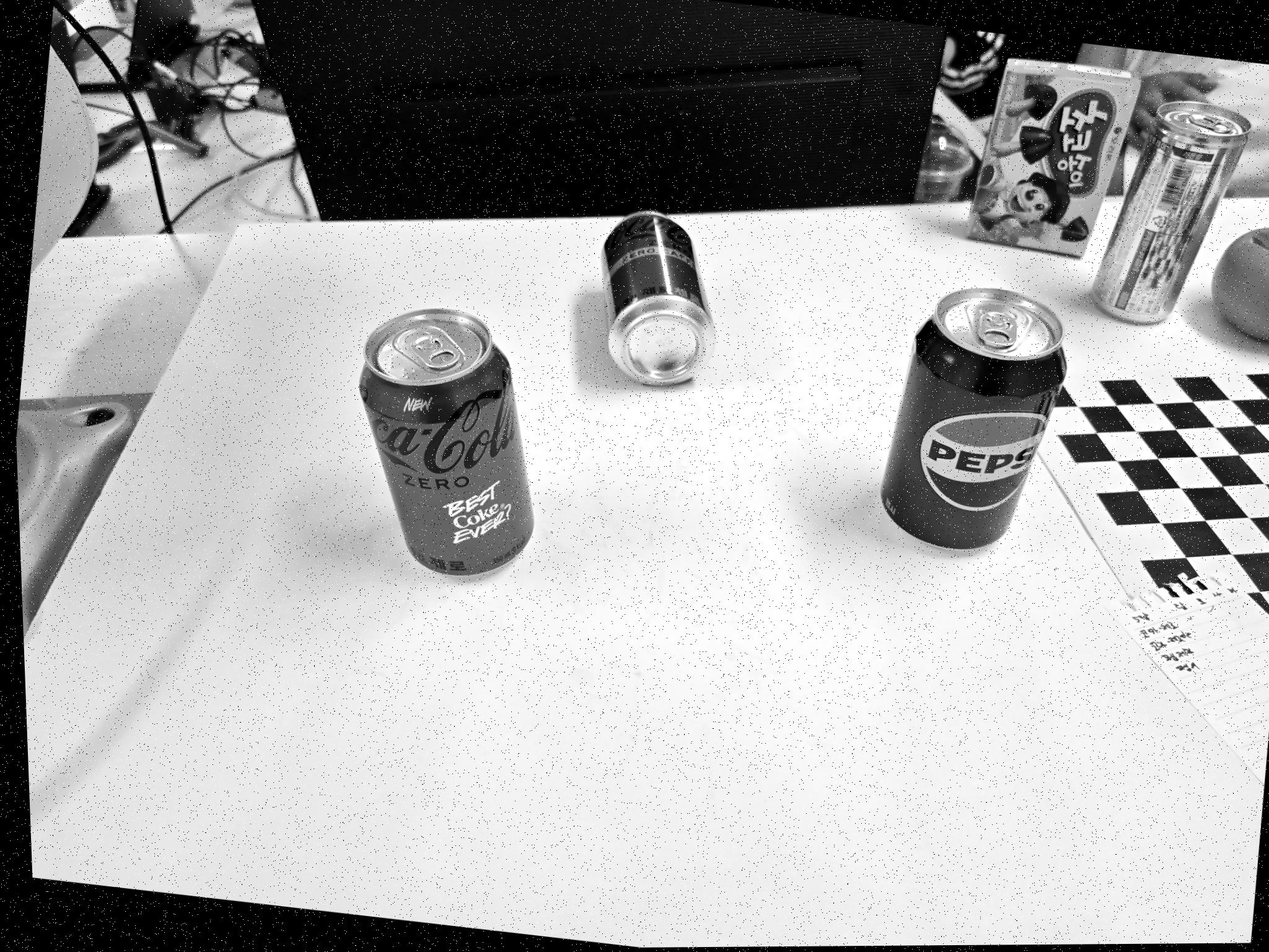can_coke_decaf: (598, 210, 717, 384)
can_coke_zero: (357, 306, 534, 574)
can_pepsi: (875, 288, 1069, 548)
